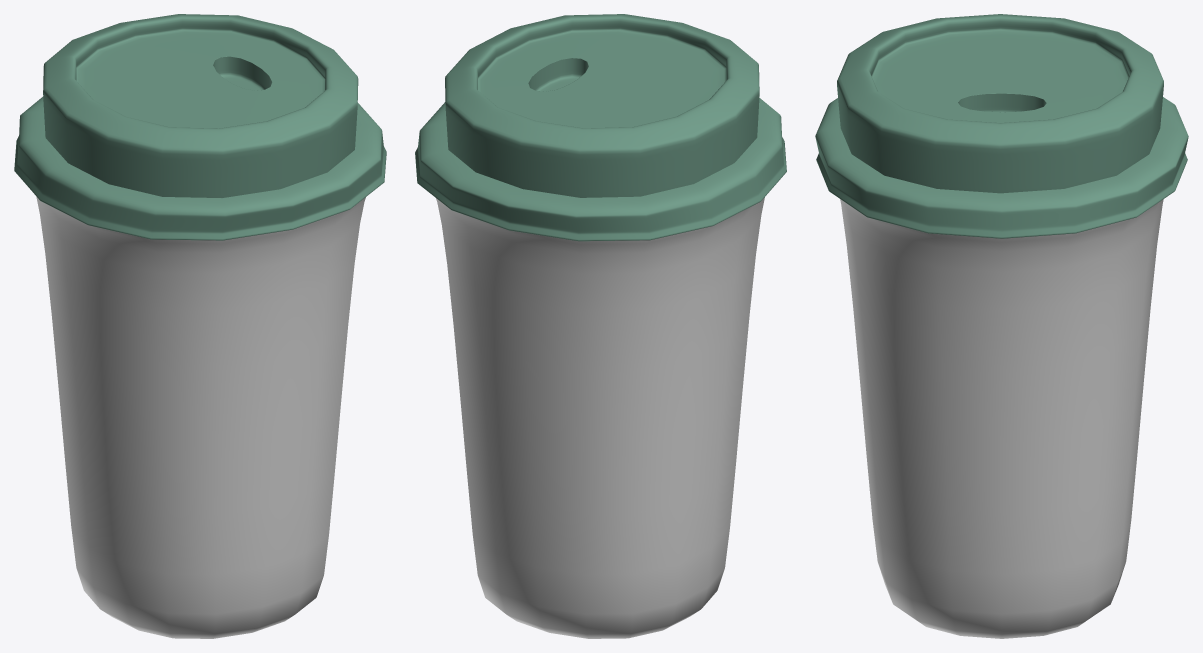
Rendered from cup3-cover.fbx.
3 views of the same model, side by side, from view 1: azimuth 30°, elevation 25°; view 2: azimuth 150°, elevation 25°; view 3: azimuth 270°, elevation 25° (orthographic).
Visible parts, largest first — view 1: Cube, Cube.001; view 2: Cube, Cube.001; view 3: Cube, Cube.001.
Part boxes in pixels (bbox=[...]): Cube: bbox=[36, 196, 365, 638]; Cube.001: bbox=[14, 14, 386, 240]; Cube: bbox=[436, 197, 764, 638]; Cube.001: bbox=[415, 14, 786, 241]; Cube: bbox=[840, 199, 1163, 638]; Cube.001: bbox=[815, 14, 1188, 238].
Bounding box in the file's own units: 196 × 309 × 197.
